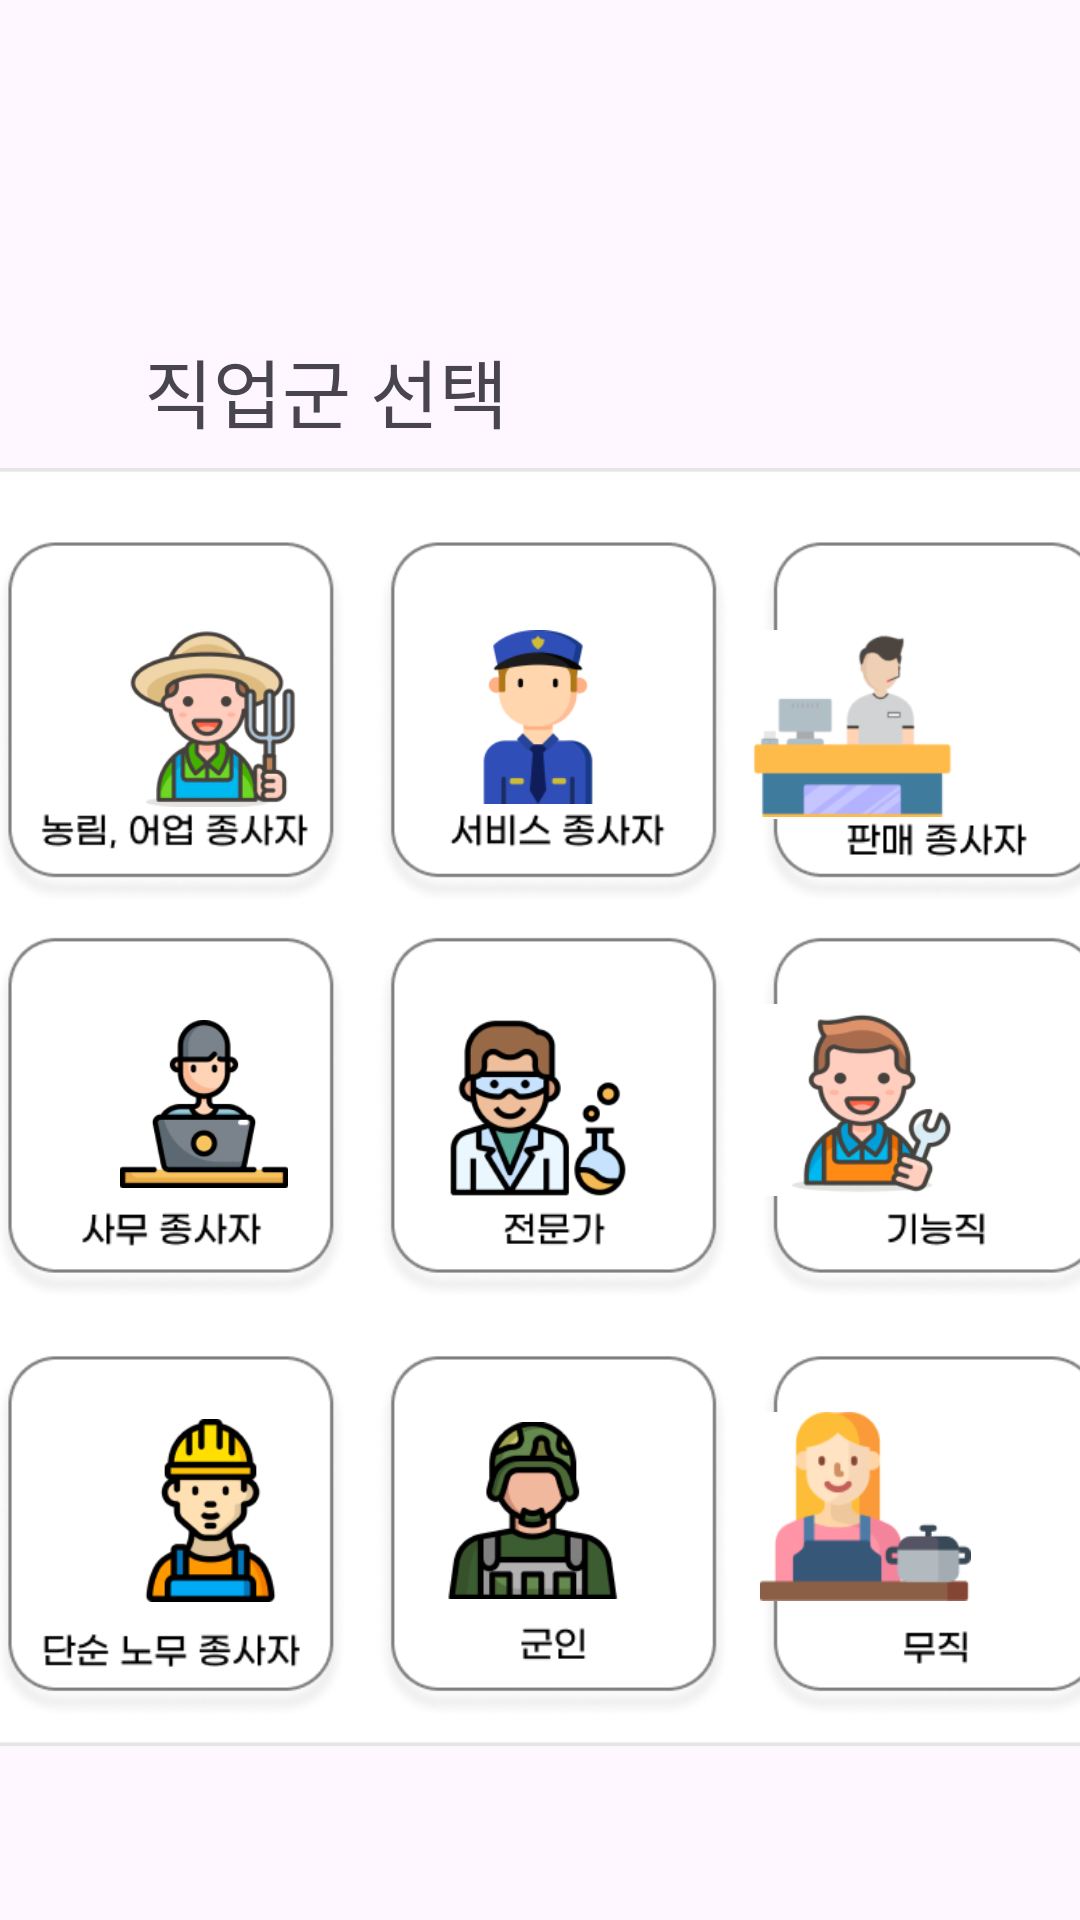

Icon click points for this 1080w x 1920h phone screenshot, format (x=x, y=y):
mechanic: (x=872, y=1103)
police: (x=538, y=717)
programer: (x=204, y=1104)
scientist: (x=538, y=1108)
